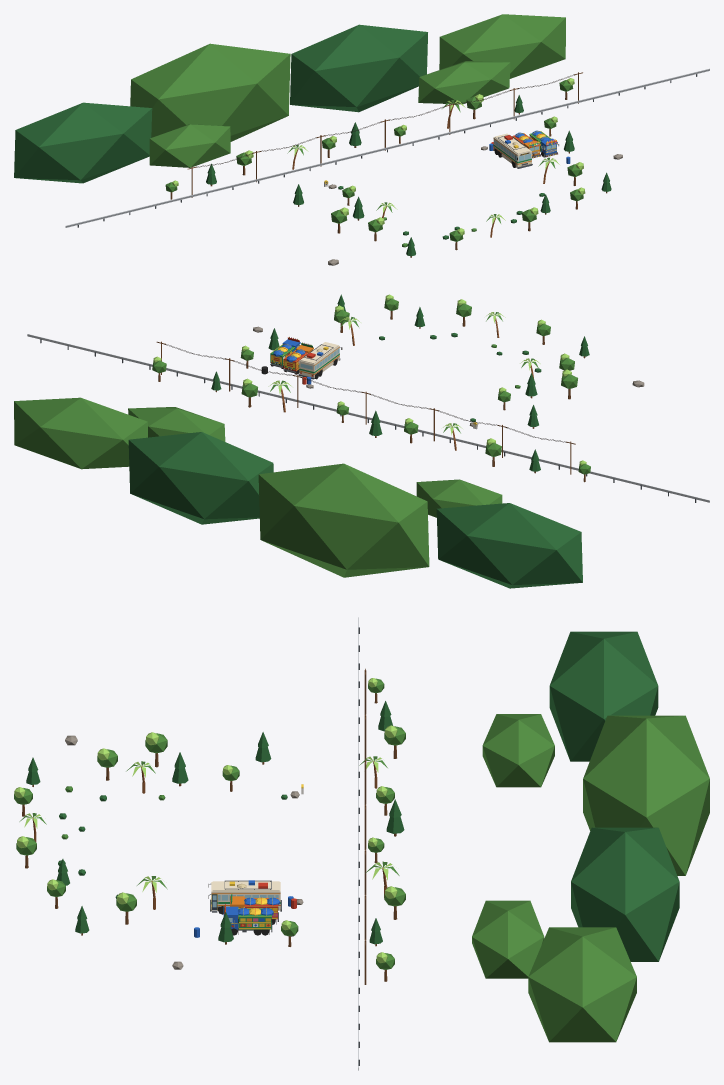
File: scenery.glb
The picture shows the model from 3 angles, top to bottom: view 1: azimuth 30°, elevation 25°; view 2: azimuth 150°, elevation 25°; view 3: azimuth 270°, elevation 25°; orthographic projection. The views are drawn at different scales.
Visible parts, largest first — view 1: scenery; view 2: scenery; view 3: scenery.
Boxes of the visible parts, x1,y1,x2,y2 form: scenery: (14,14,709,265); scenery: (14,294,709,588); scenery: (14,617,709,1070).
Bounding box in the file's own units: 100 × 16 × 65.34.
1 material, 1 textured.
